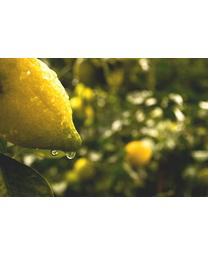lemon: (2, 57, 81, 153)
